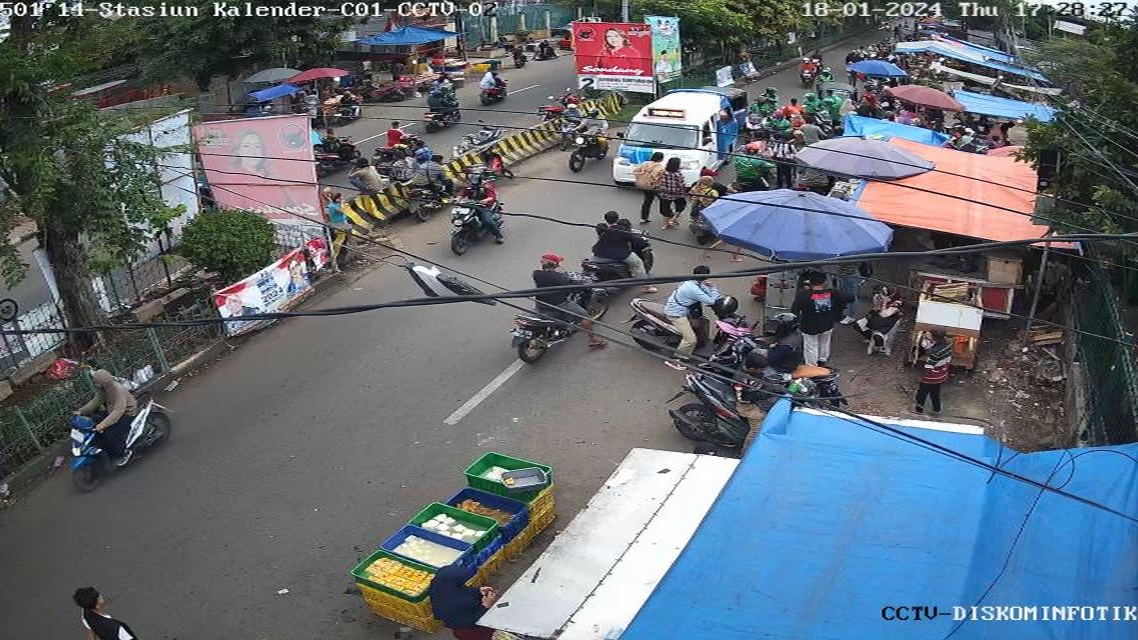Gerobak: (757, 264, 811, 330)
